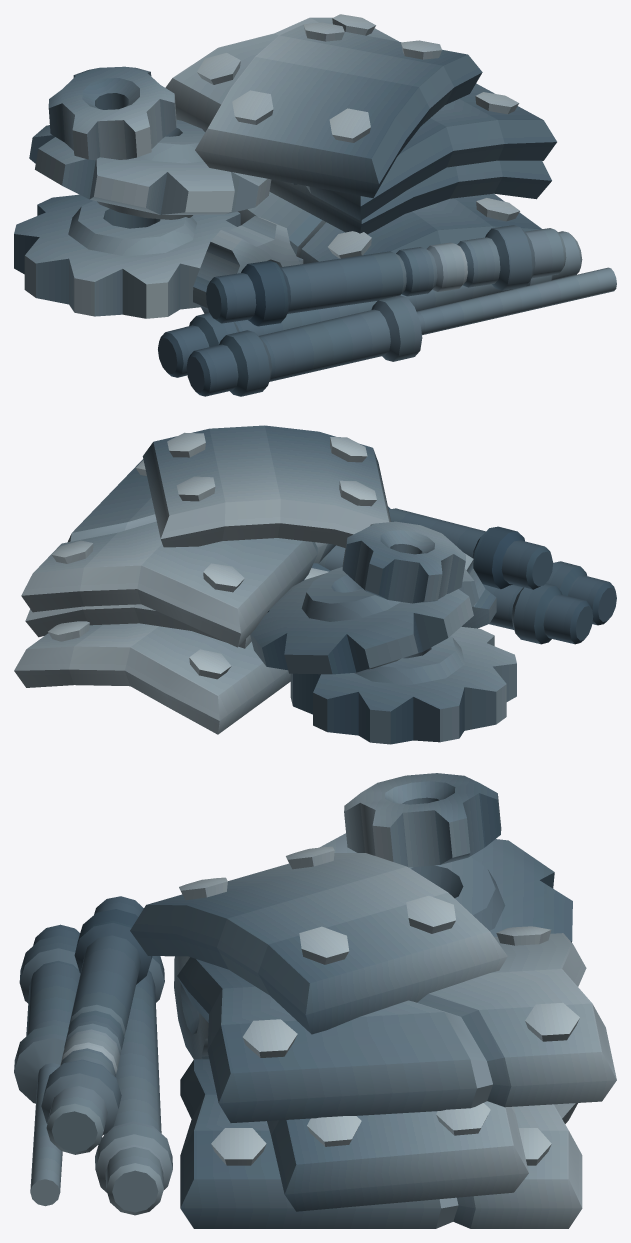
Rendered from kk_parts_pile_large.glb.
The picture shows the model from 3 angles, top to bottom: view 1: azimuth 30°, elevation 25°; view 2: azimuth 150°, elevation 25°; view 3: azimuth 270°, elevation 25°; orthographic projection. The views are drawn at different scales.
Parts seen in each view (by area): view 1: Parts_Pile_Large; view 2: Parts_Pile_Large; view 3: Parts_Pile_Large.
Part boxes in pixels (x1=…): Parts_Pile_Large: x1=14, y1=14, x2=616, y2=396; Parts_Pile_Large: x1=14, y1=425, x2=616, y2=744; Parts_Pile_Large: x1=14, y1=773, x2=616, y2=1228.
Size of the model in its own units: 1.4 by 0.5827 by 1.26.
Materials: 1 (1 with a texture image).
